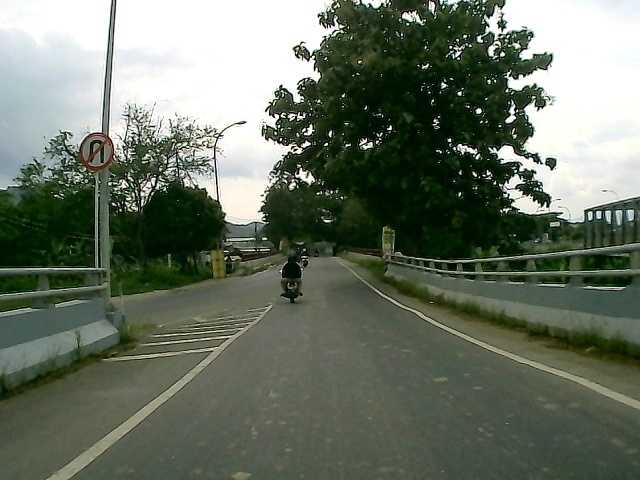Dilarang berbalik arah: (76, 130, 118, 174)
